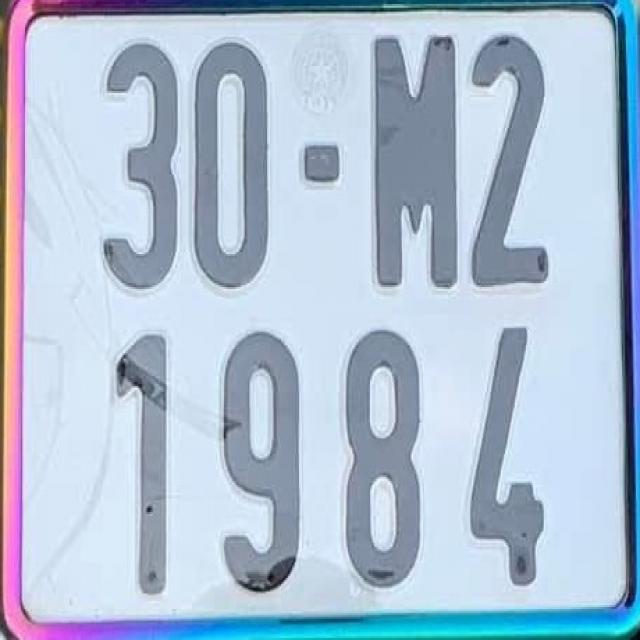0: (188, 33, 278, 295)
1: (107, 326, 181, 597)
2: (468, 27, 556, 291)
3: (96, 35, 184, 293)
4: (459, 314, 554, 590)
8: (334, 314, 433, 594)
9: (210, 320, 310, 597)
M: (365, 23, 466, 293)
